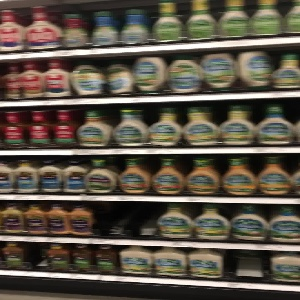void: (91, 204, 160, 241), (222, 250, 270, 283), (26, 242, 49, 272)
